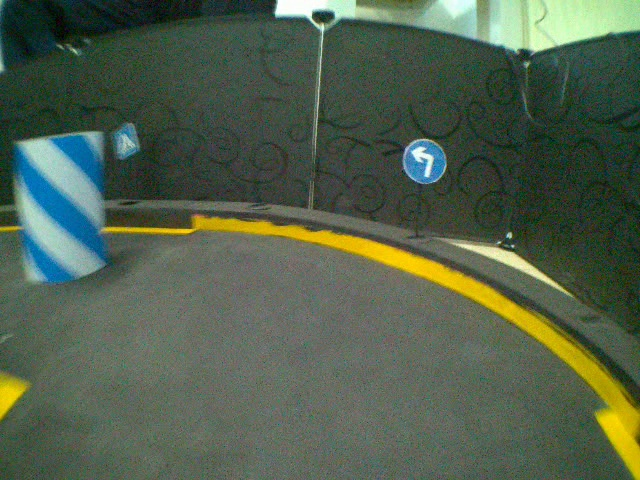bucket: (13, 129, 111, 286)
